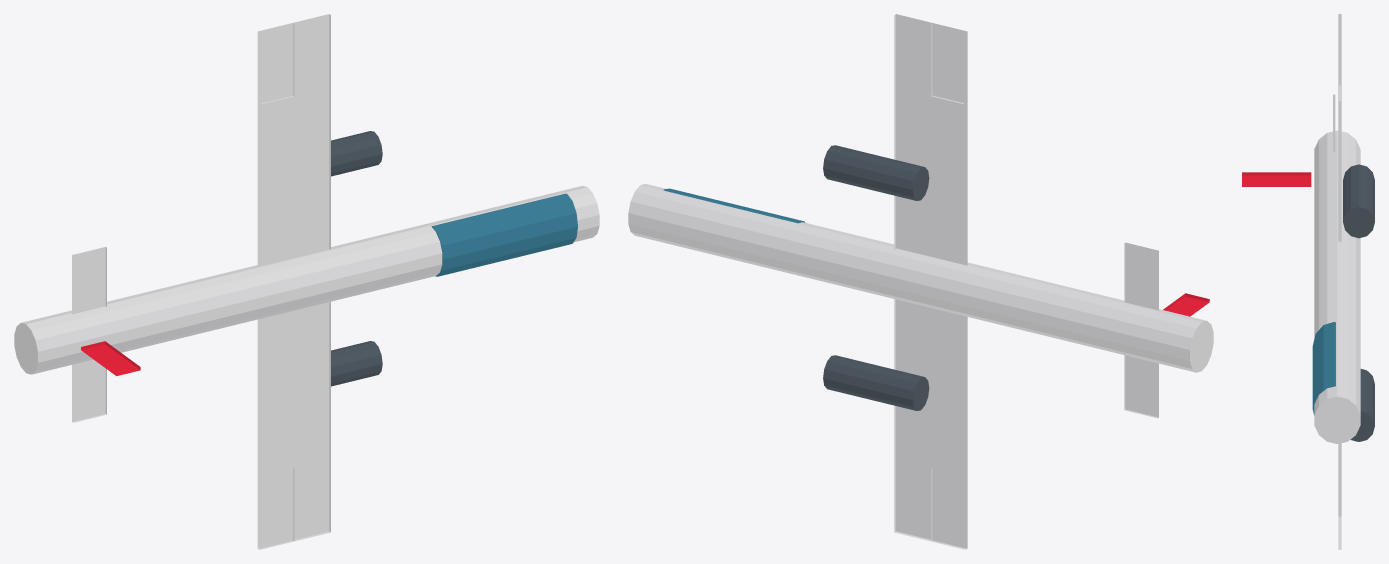
3 renders of one model, left to right at view 1: azimuth 30°, elevation 25°; view 2: azimuth 150°, elevation 25°; view 3: azimuth 270°, elevation 25°, orthographic. The views are drawn at different scales.
Parts seen in each view (by area): view 1: Boeing 787-10; view 2: Boeing 787-10; view 3: Boeing 787-10.
Part boxes in pixels (x1=…): Boeing 787-10: x1=14, y1=14, x2=599, y2=549; Boeing 787-10: x1=628, y1=14, x2=1213, y2=549; Boeing 787-10: x1=1242, y1=14, x2=1374, y2=549.
Size of the model in its own units: 68.3 by 60.1 by 14.42.
